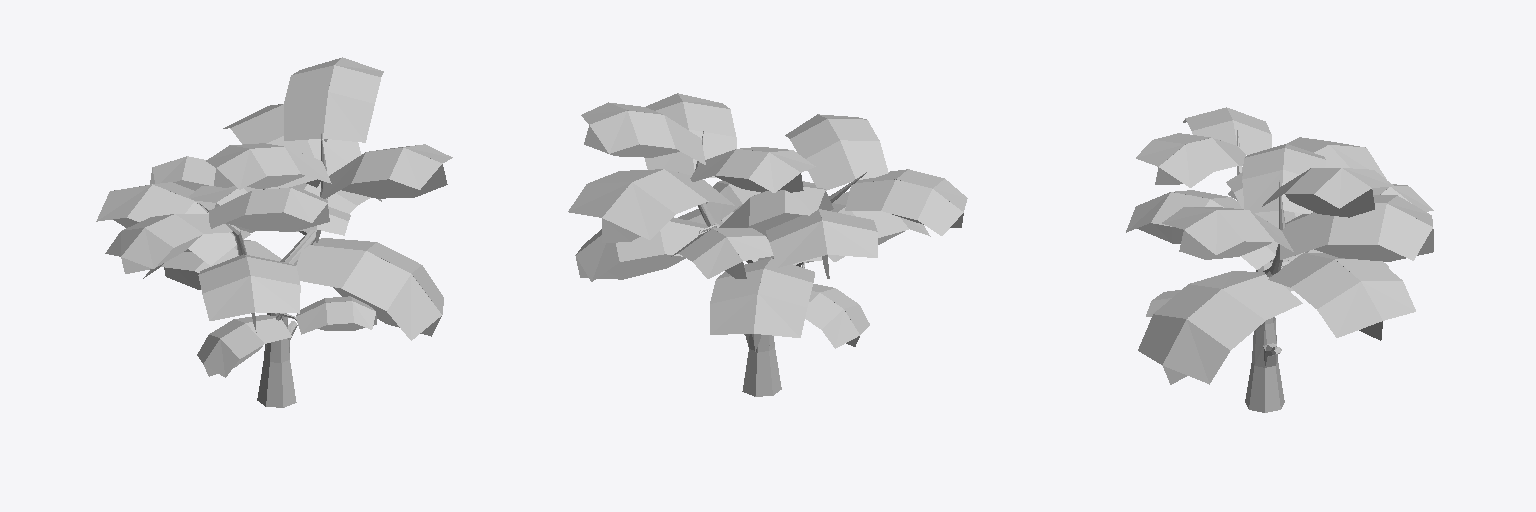
File: tree1.obj
The picture shows the model from 3 angles: view 1: azimuth 30°, elevation 25°; view 2: azimuth 150°, elevation 25°; view 3: azimuth 270°, elevation 25°; orthographic projection.
Visible parts, largest first — view 1: pasted__pasted__pasted__treeWide_null_ pasted__pasted__group29 p; view 2: pasted__pasted__pasted__treeWide_null_ pasted__pasted__group29 p; view 3: pasted__pasted__pasted__treeWide_null_ pasted__pasted__group29 p.
Boxes of the visible parts, box(x1,y1,x2,y2) form: pasted__pasted__pasted__treeWide_null_ pasted__pasted__group29 p: box(96, 57, 452, 407); pasted__pasted__pasted__treeWide_null_ pasted__pasted__group29 p: box(568, 93, 967, 396); pasted__pasted__pasted__treeWide_null_ pasted__pasted__group29 p: box(1126, 107, 1433, 412).
Bounding box in the file's own units: 52.88 × 43.24 × 42.76.